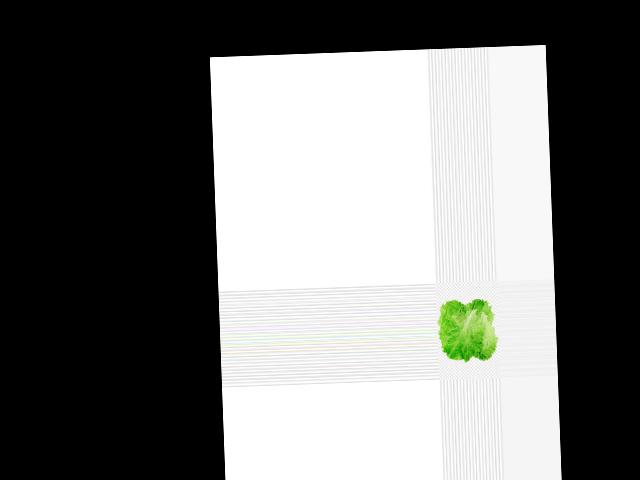lettuce: (435, 293, 500, 367)
